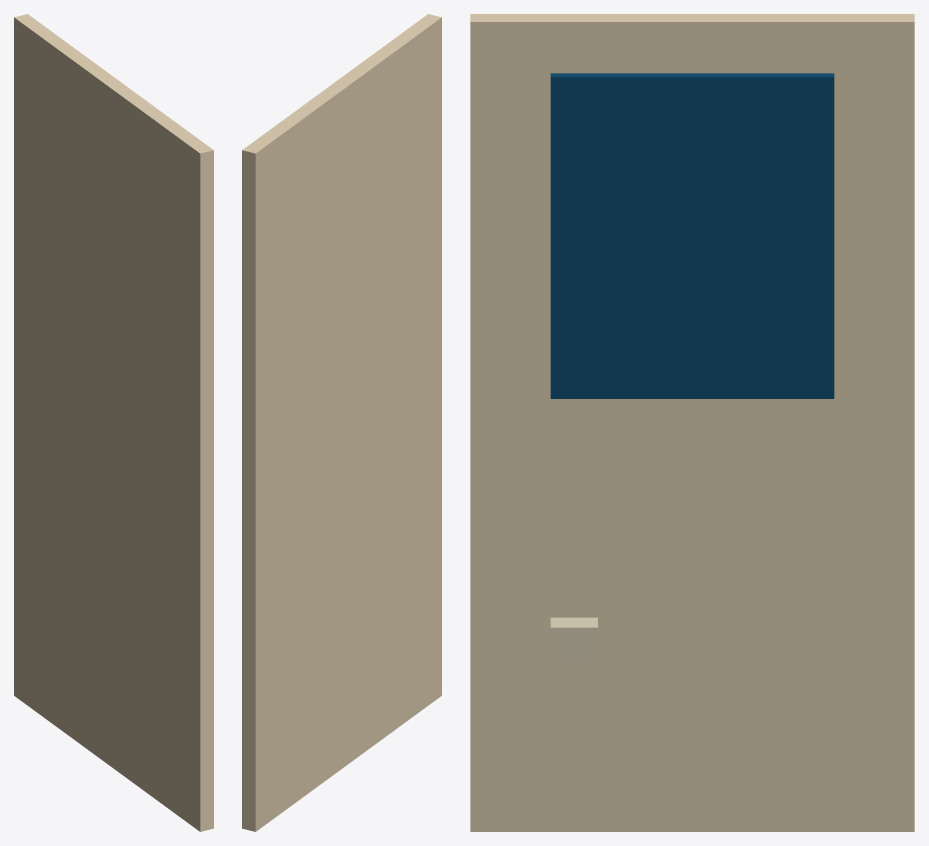
File: door.obj
3 views of the same model, side by side, from view 1: azimuth 30°, elevation 25°; view 2: azimuth 150°, elevation 25°; view 3: azimuth 270°, elevation 25° (orthographic). The views are drawn at different scales.
Parts seen in each view (by area): view 1: part0; view 2: part0; view 3: part0, part1, part2.
Boxes of the visible parts, x1,y1,x2,y2 form: part0: [14, 14, 213, 831]; part0: [242, 14, 441, 831]; part0: [470, 14, 914, 831]; part1: [550, 73, 834, 398]; part2: [550, 617, 597, 661].
Bounding box in the file's own units: 0.09 × 1.89 × 0.94.
